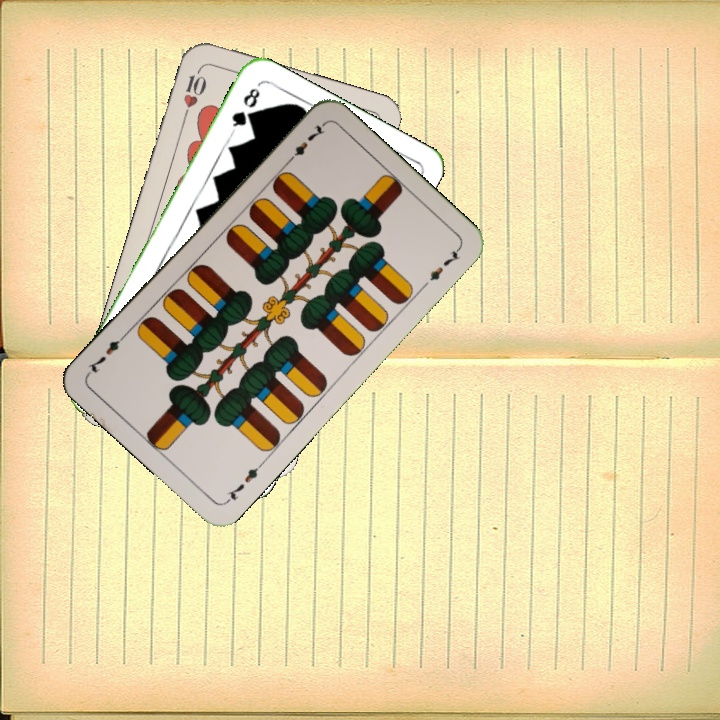E7: (282, 119, 328, 167), (222, 458, 266, 506)
G8: (227, 83, 262, 136)
H10: (178, 64, 209, 122)
